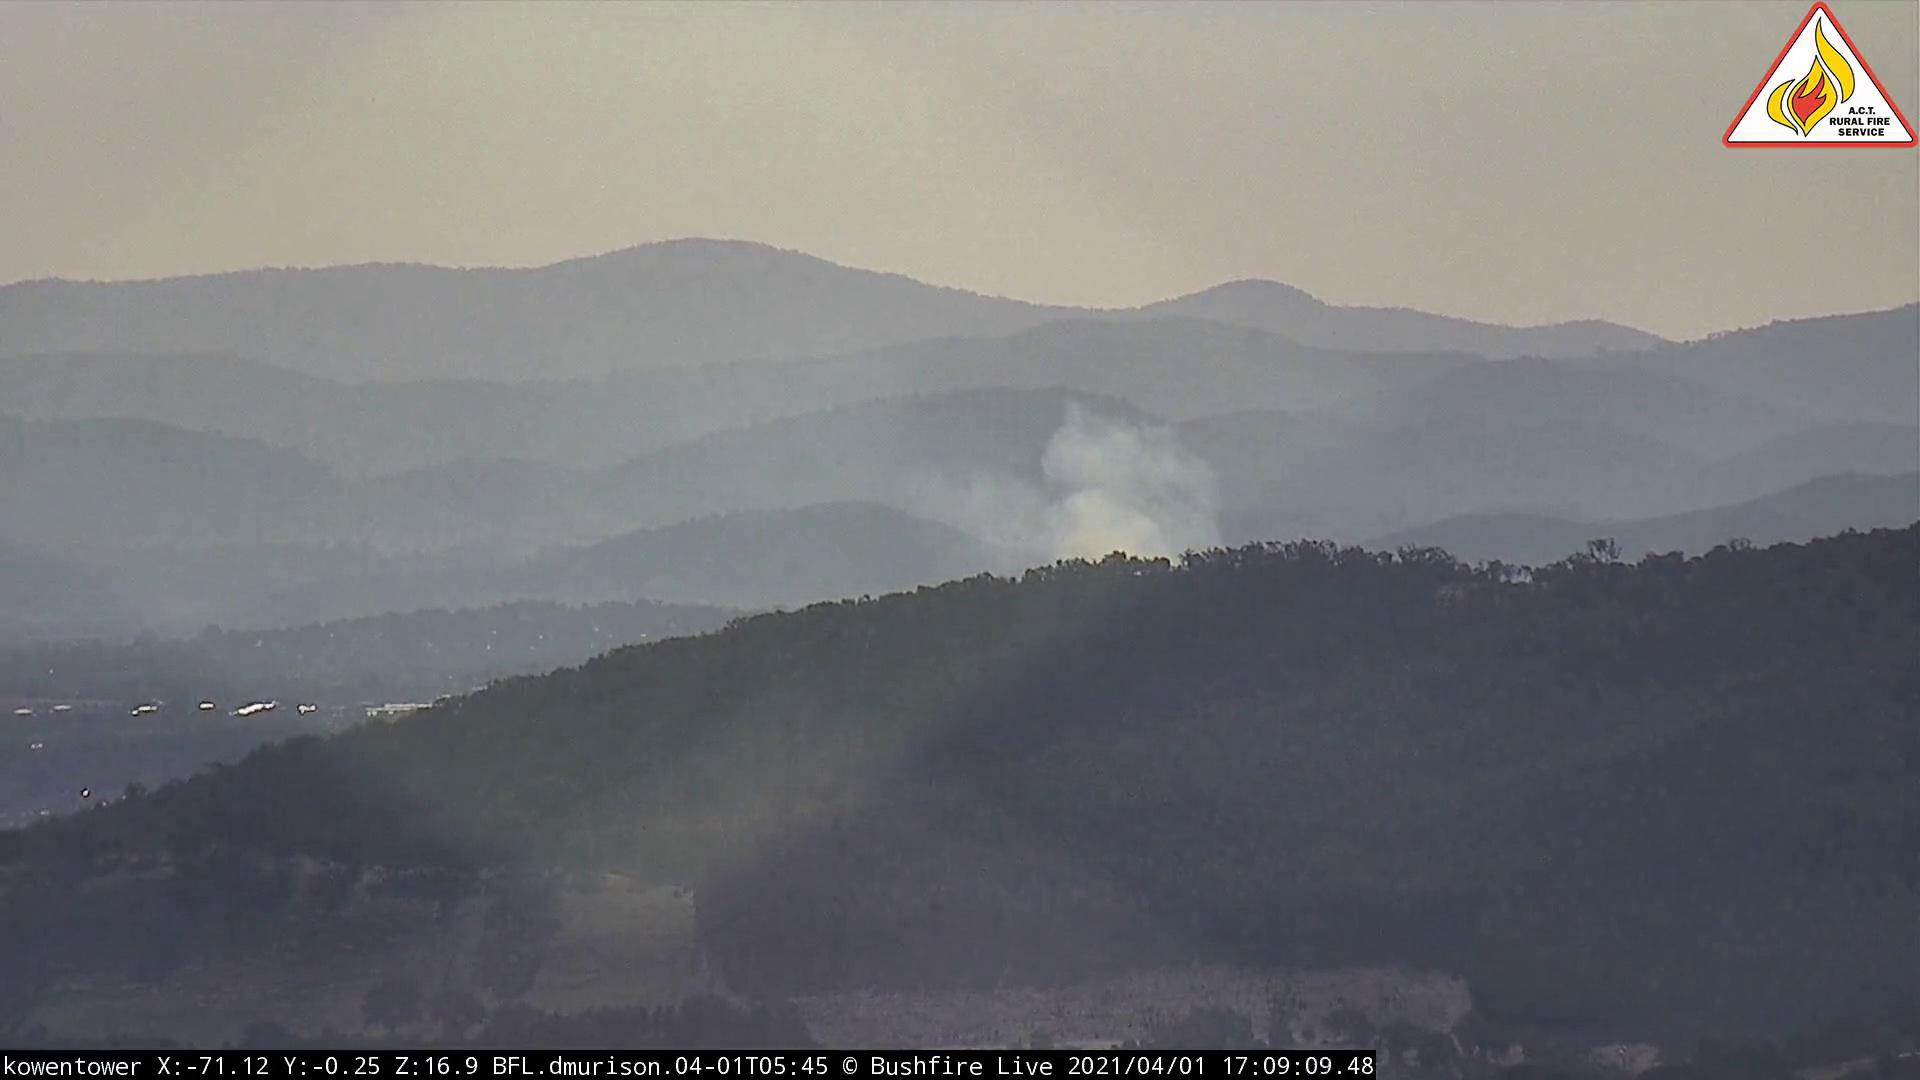Smoke: (934, 386, 1261, 616)
